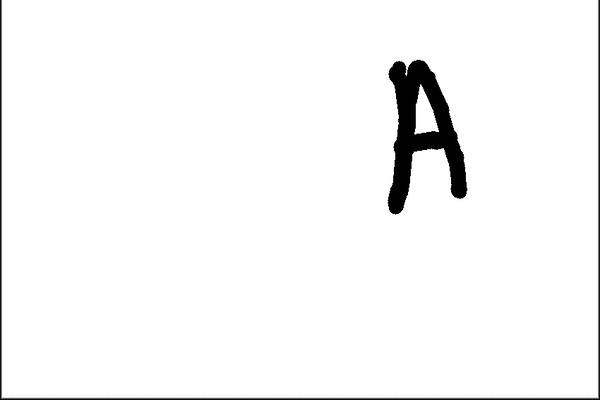A: (370, 51, 481, 213)
